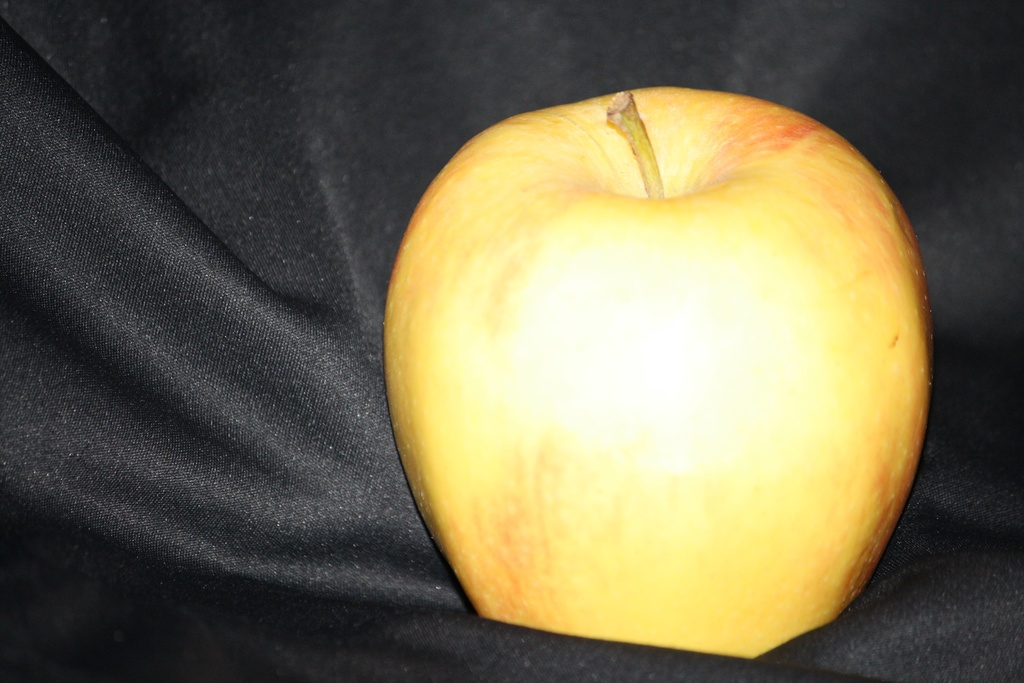Apple: (380, 83, 935, 659)
